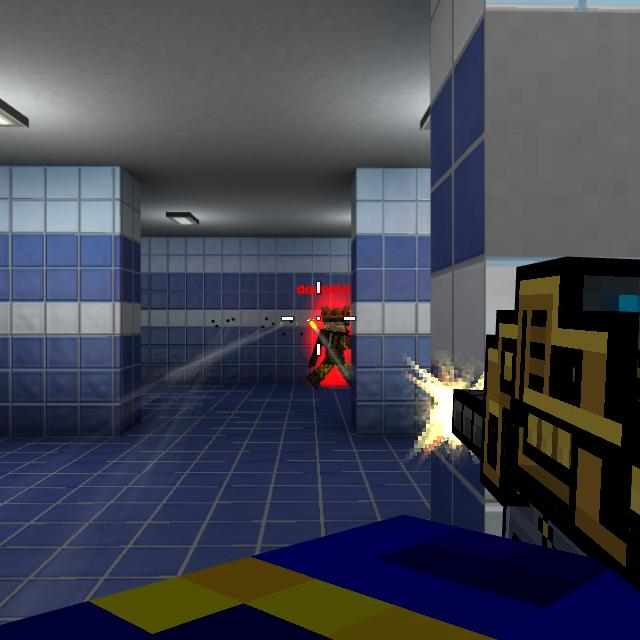Enemy: (308, 306, 353, 389)
